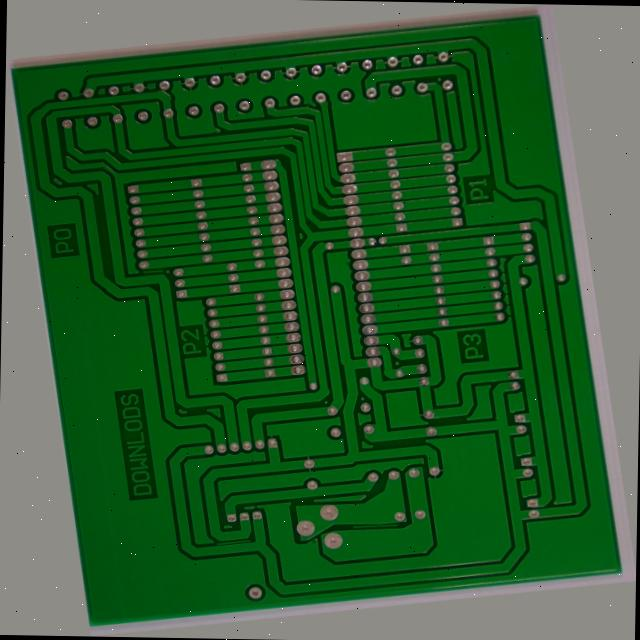spurious_copper: (315, 546, 372, 559), (156, 547, 199, 554), (121, 241, 150, 249)
